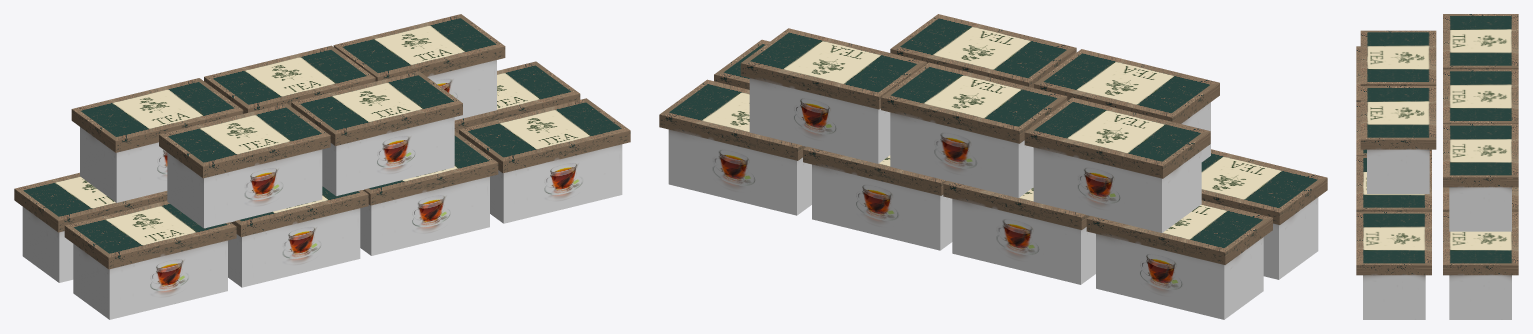
Rendered from tea_Large 1.fbx.
3 views of the same model, side by side, from view 1: azimuth 30°, elevation 25°; view 2: azimuth 150°, elevation 25°; view 3: azimuth 270°, elevation 25° (orthographic). The views are drawn at different scales.
Parts seen in each view (by area): view 1: tea_Large; view 2: tea_Large; view 3: tea_Large.
Part boxes in pixels (<box>): tea_Large: <box>14,14,630,319</box>; tea_Large: <box>659,14,1327,319</box>; tea_Large: <box>1356,14,1518,319</box>.
Bounding box in the file's own units: 827 × 199 × 259.
Materials: 1 (1 with a texture image).
